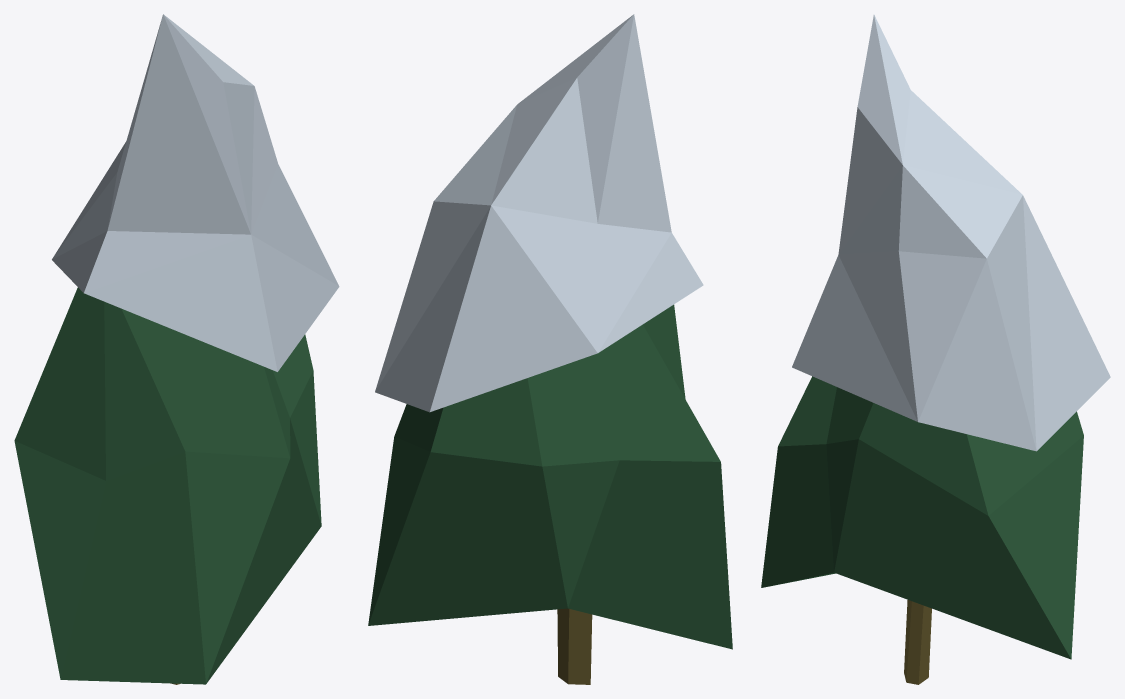
Rendered from TreeWinter9_Alt3.fbx.
The picture shows the model from 3 angles, left to right: view 1: azimuth 30°, elevation 25°; view 2: azimuth 150°, elevation 25°; view 3: azimuth 270°, elevation 25°; orthographic projection. The views are drawn at different scales.
Visible parts, largest first — view 1: TreeWinter9_Alt3; view 2: TreeWinter9_Alt3; view 3: TreeWinter9_Alt3.
Boxes of the visible parts, <box> form: TreeWinter9_Alt3: <box>14,14,339,684</box>; TreeWinter9_Alt3: <box>368,14,732,684</box>; TreeWinter9_Alt3: <box>761,14,1110,684</box>.
Bounding box in the file's own units: 1.47 × 3.03 × 1.49.
